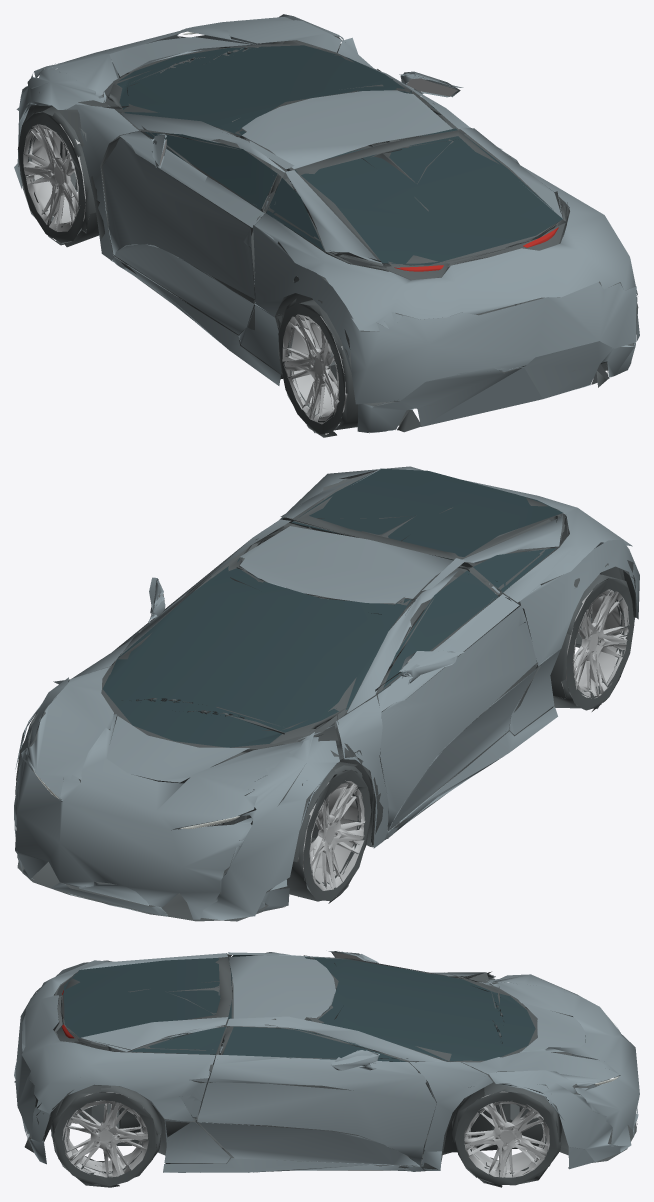
The model's file is crossover-far.glb.
The picture shows the model from 3 angles, top to bottom: view 1: azimuth 30°, elevation 25°; view 2: azimuth 150°, elevation 25°; view 3: azimuth 270°, elevation 25°; orthographic projection. The views are drawn at different scales.
Visible parts, largest first — view 1: body, BoardingDoorLeft, WheelFrontL, WheelRearL, BoardingDoorRight; view 2: body, BoardingDoorLeft, WheelFrontL, WheelRearL, BoardingDoorRight; view 3: body, BoardingDoorRight, WheelFrontR, WheelRearR.
Part boxes in pixels (box(x1,y1,x2,y2)): body: box(14, 14, 639, 433); BoardingDoorLeft: box(101, 126, 281, 334); WheelFrontL: box(17, 106, 99, 247); WheelRearL: box(278, 298, 357, 437); BoardingDoorRight: box(368, 69, 519, 164); body: box(14, 466, 639, 921); BoardingDoorLeft: box(375, 567, 537, 831); WheelFrontL: box(282, 762, 371, 903); WheelRearL: box(550, 574, 634, 711); BoardingDoorRight: box(113, 533, 271, 654); body: box(14, 952, 639, 1172); BoardingDoorRight: box(197, 1026, 436, 1166); WheelFrontR: box(452, 1082, 561, 1187); WheelRearR: box(50, 1085, 161, 1187).
Bounding box in the file's own units: 1.84 × 1.12 × 4.21.
